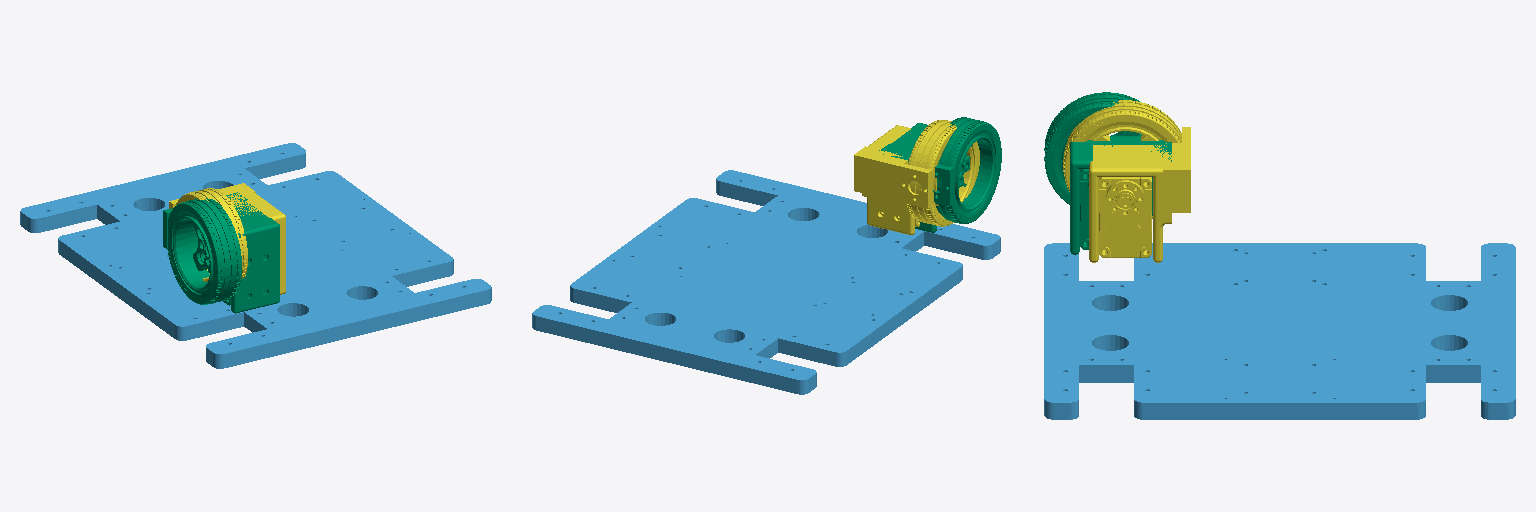
The robot description file, URDF, robot "kani":
<?xml version="1.0" ?>
<!-- =================================================================================== -->
<!-- |    This document was autogenerated by xacro from kani.urdf.xacro                | -->
<!-- |    EDITING THIS FILE BY HAND IS NOT RECOMMENDED                                 | -->
<!-- =================================================================================== -->
<robot name="kani" xmlns:xacro="http://www.ros.org/wiki/xacro">
  <!-- <xacro:include filename="$(find kani_description)/urdf/base.transmission.xacro"/> -->
  <!-- <xacro:include filename="$(find kani_description)/urdf/base.gazebo.xacro" /> -->
  <!-- <xacro:macro name="kani_lwheel_trans">
    <transmission name="lwheel_trans" type="SimpleTransmission">
      <type>transmission_interface/SimpleTransmission</type>
      <joint name="lwheel_joint">
        <hardwareInterface>VelocityJointInterface</hardwareInterface>
      </joint>
      <actuator name="lwheel_motor">
        <mechanicalReduction>1</mechanicalReduction>
        <hardwareInterface>VelocityJointInterface</hardwareInterface>
      </actuator>
    </transmission>
  </xacro:macro> -->
  <!-- 
  <xacro:macro name="kani_lwheel_gazebo">
    <gazebo reference="left_wheel">
      <material>Gazebo/Black</material>
      <mu1 value="100.0"/>
      <mu2 value="100.0"/>
      <kp value="1000000.0" />
      <kd value="1.0" />
      <fdir1 value="1 0 0"/>
      <dampingFactor value="0.1"/>
    </gazebo>
  </xacro:macro> -->
  <link name="base_footprint">
    <visual>
      <origin rpy="0 0 0" xyz="0 0 0"/>
      <geometry>
        <box size="0.001 0.001 0.001"/>
      </geometry>
    </visual>
  </link>
  <joint name="base_footprint_joint" type="fixed">
    <origin rpy="0 0 0" xyz="0 0 0"/>
    <child link="base_link"/>
    <parent link="base_footprint"/>
  </joint>
  <link name="base_link">
    <inertial>
      <origin rpy="0 0 0" xyz="0.0 0.0 0.0"/>
      <mass value="0.05"/>
      <inertia ixx="0.2" ixy="0" ixz="0" iyy="0.2" iyz="0" izz="0.2"/>
    </inertial>
    <visual>
      <origin rpy="-1.57079632679 0 0" xyz="0 0 0"/>
      <geometry>
        <mesh filename="package://kani_description/STL/base.stl"/>
      </geometry>
      <!-- <material>
        </material> -->
    </visual>
    <collision>
      <origin rpy="0 0 0" xyz="0 0 0"/>
      <geometry>
        <mesh filename="package://kani_description/STL/base.stl"/>
      </geometry>
      <!-- <material>
        </material> -->
    </collision>
  </link>
  <!-- Wheel macros -->
  <!-- <xacro:rwheel />
    <xacro:lwheel /> -->
  <!-- Hokuyo utm30lx-->
  <!-- <xacro:hokuyo_utm30lx name="hokuyo" parent="base_link"/> -->
  <!-- <xacro:hokuyo_utm30lx_back name="hokuyo_back" parent="base_link"/> -->
  <!-- Extensions -->
  <!-- <xacro:kani_base_gazebo/> -->
  <link name="rightFront_link">
    <inertial>
      <origin rpy="0 0 0" xyz="0 0 0"/>
      <!--0.00222524026865972 0.173009757872407 -0.000157420245397055-->
      <mass value="0.0963917377366023"/>
      <inertia ixx="0.232225456967381" ixy="0.0" ixz="0.0" iyy="0.232225456967381" iyz="0.0" izz="0.232225456967381"/>
    </inertial>
    <visual>
      <origin rpy="0 0 0" xyz="0 0 0"/>
      <geometry>
        <mesh filename="package://kani_description/STL/wheel_link.stl"/>
      </geometry>
      <material name="black">
        </material>
    </visual>
    <collision>
      <origin rpy="0 0 0" xyz="0 0 0"/>
      <geometry>
        <mesh filename="package://kani_description/STL/wheel_link.stl"/>
      </geometry>
    </collision>
  </link>
  <joint name="rightFront_joint" type="continuous">
    <origin rpy="0 0 0" xyz="0 0 0"/>
    <!-- xyz= "0.0600000000000003 -0.178955289353836 -0.0124450740677247" -->
    <parent link="base_link"/>
    <child link="rightFront_link"/>
    <axis xyz="0 1 0"/>
  </joint>
  <gazebo reference="rightFront">
    <material>Gazebo/Black</material>
    <mu1 value="100.0"/>
    <mu2 value="100.0"/>
    <kp value="1000000.0"/>
    <kd value="1.0"/>
    <fdir1 value="1 0 0"/>
    <dampingFactor value="0.1"/>
  </gazebo>
  <transmission name="rightFront" type="SimpleTransmission">
    <type>transmission_interface/SimpleTransmission</type>
    <joint name="rightFront_joint">
      <hardwareInterface>VelocityJointInterface</hardwareInterface>
    </joint>
    <actuator name="rightFront_motor">
      <mechanicalReduction>1</mechanicalReduction>
      <hardwareInterface>VelocityJointInterface</hardwareInterface>
    </actuator>
  </transmission>
  <link name="leftFront_link">
    <inertial>
      <origin rpy="0 0 0" xyz="0 0 0"/>
      <!--0.00222524026865972 0.173009757872407 -0.000157420245397055-->
      <mass value="0.0963917377366023"/>
      <inertia ixx="0.232225456967381" ixy="0.0" ixz="0.0" iyy="0.232225456967381" iyz="0.0" izz="0.232225456967381"/>
    </inertial>
    <visual>
      <origin rpy="0 0 0" xyz="0 0 0"/>
      <geometry>
        <mesh filename="package://kani_description/STL/wheel_link.stl"/>
      </geometry>
      <material name="black">
        </material>
    </visual>
    <collision>
      <origin rpy="0 0 0" xyz="0 0 0"/>
      <geometry>
        <mesh filename="package://kani_description/STL/wheel_link.stl"/>
      </geometry>
    </collision>
  </link>
  <joint name="leftFront_joint" type="continuous">
    <origin rpy="0 0 0" xyz="10 10 0"/>
    <!-- xyz= "0.0600000000000003 -0.178955289353836 -0.0124450740677247" -->
    <parent link="base_link"/>
    <child link="leftFront_link"/>
    <axis xyz="0 1 0"/>
  </joint>
  <gazebo reference="leftFront">
    <material>Gazebo/Black</material>
    <mu1 value="100.0"/>
    <mu2 value="100.0"/>
    <kp value="1000000.0"/>
    <kd value="1.0"/>
    <fdir1 value="1 0 0"/>
    <dampingFactor value="0.1"/>
  </gazebo>
  <transmission name="leftFront" type="SimpleTransmission">
    <type>transmission_interface/SimpleTransmission</type>
    <joint name="leftFront_joint">
      <hardwareInterface>VelocityJointInterface</hardwareInterface>
    </joint>
    <actuator name="leftFront_motor">
      <mechanicalReduction>1</mechanicalReduction>
      <hardwareInterface>VelocityJointInterface</hardwareInterface>
    </actuator>
  </transmission>
</robot>

--- Render facts (derived) ---
The picture shows the robot from 3 angles, left to right: view 1: azimuth 30°, elevation 25°; view 2: azimuth 150°, elevation 25°; view 3: azimuth 270°, elevation 25°; orthographic projection.
Robot: kani — 4 links, 3 joints (2 continuous, 1 fixed); root link base_footprint; default pose: all joints at 0.
Links seen in each view (by area): view 1: base_link, rightFront_link, leftFront_link; view 2: base_link, leftFront_link, rightFront_link; view 3: base_link, leftFront_link, rightFront_link.
Link boxes in pixels (bbox=[...]): base_link: bbox=[20, 143, 491, 368]; rightFront_link: bbox=[163, 192, 279, 313]; leftFront_link: bbox=[169, 183, 285, 294]; base_link: bbox=[532, 170, 1000, 394]; leftFront_link: bbox=[854, 120, 979, 234]; rightFront_link: bbox=[879, 117, 1001, 232]; base_link: bbox=[1044, 243, 1515, 419]; leftFront_link: bbox=[1063, 100, 1190, 262]; rightFront_link: bbox=[1044, 92, 1171, 254].
Bounding box of the posed robot: 200 × 250 × 99.56 m (x, y, z).
Meshes: 2 distinct files referenced, 3 mesh visuals loaded (2 binary STL).
